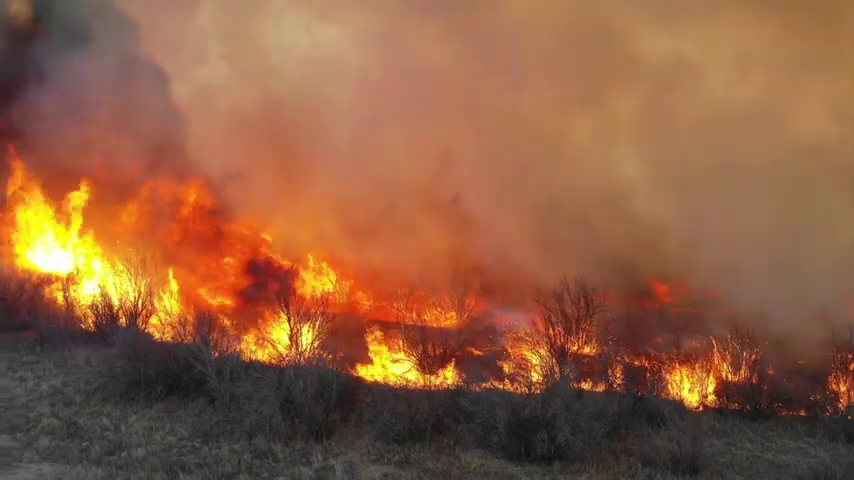forest_fire: (2, 149, 851, 413), (625, 279, 675, 308), (7, 299, 9, 300)
